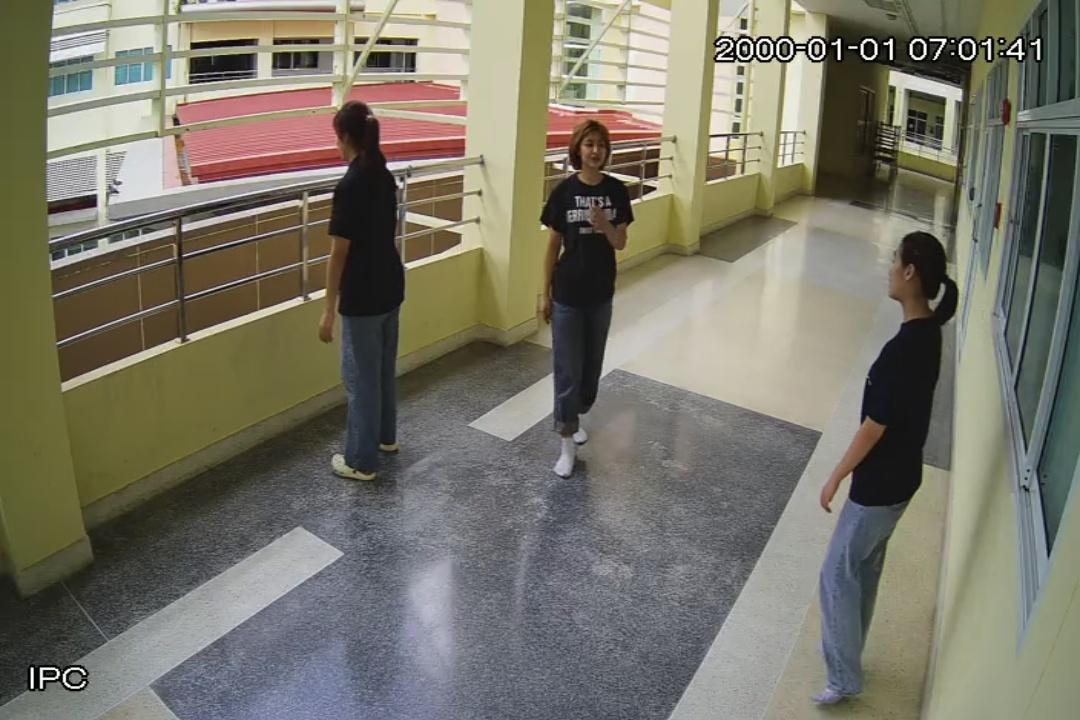normal: (808, 228, 949, 712), (537, 119, 636, 480), (318, 101, 409, 482)
